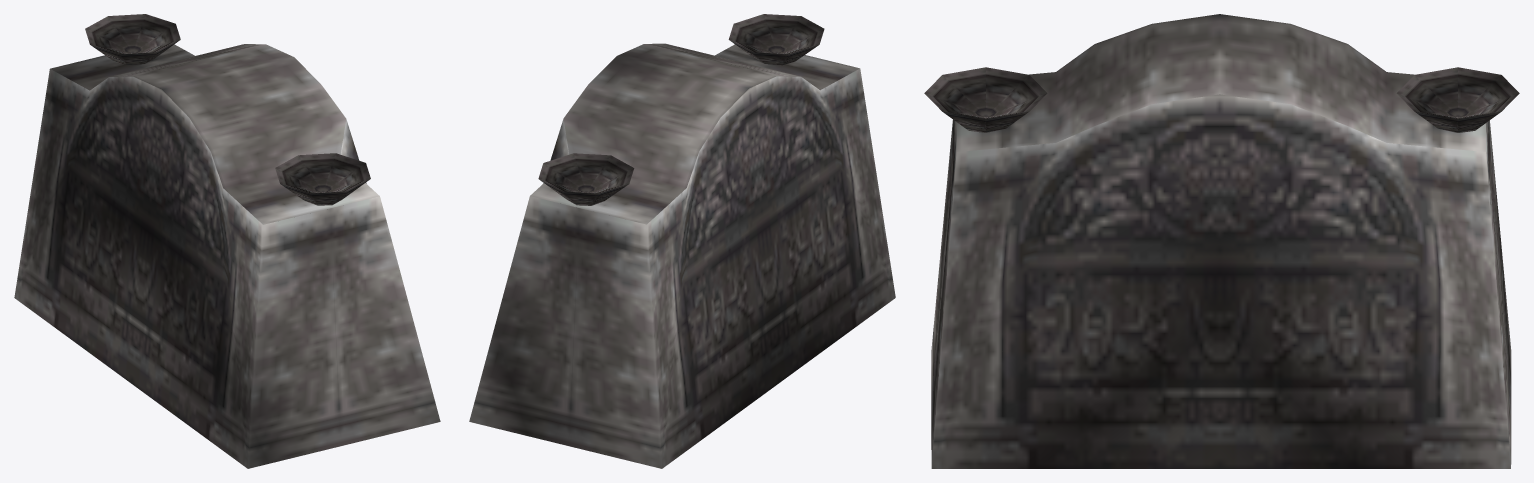
The model's file is tombstone01.glb.
3 renders of one model, left to right at view 1: azimuth 30°, elevation 25°; view 2: azimuth 150°, elevation 25°; view 3: azimuth 270°, elevation 25°, orthographic. The views are drawn at different scales.
Size of the model in its own units: 1.1 by 1.56 by 2.37.
1 material, 1 textured.
